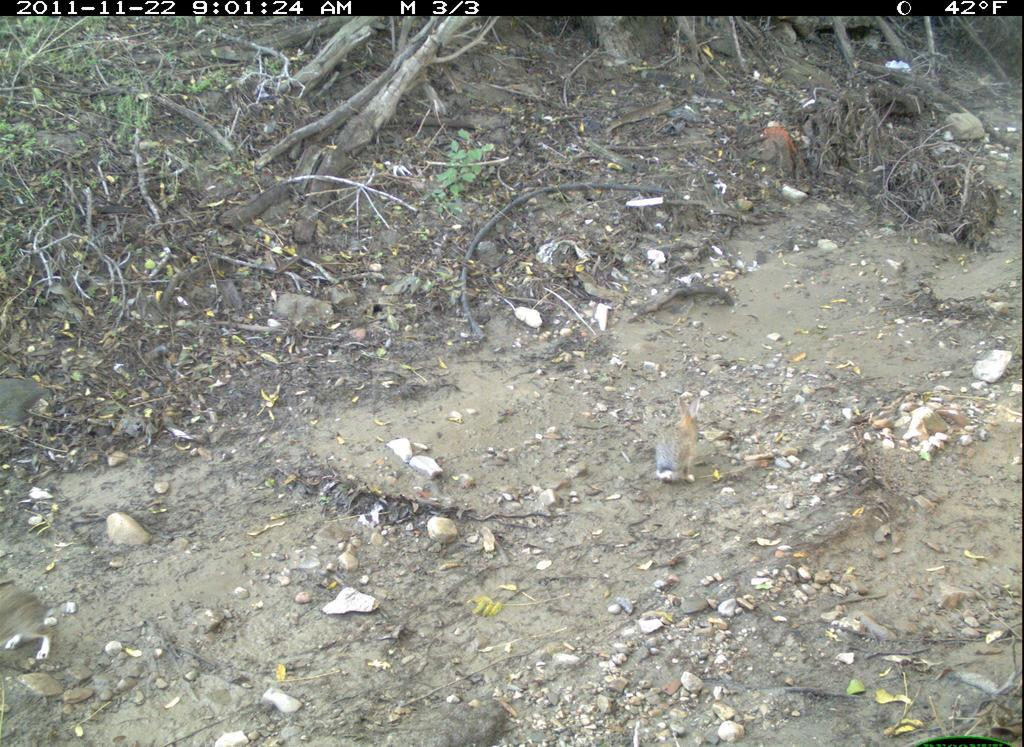rabbit: (652, 393, 707, 493)
